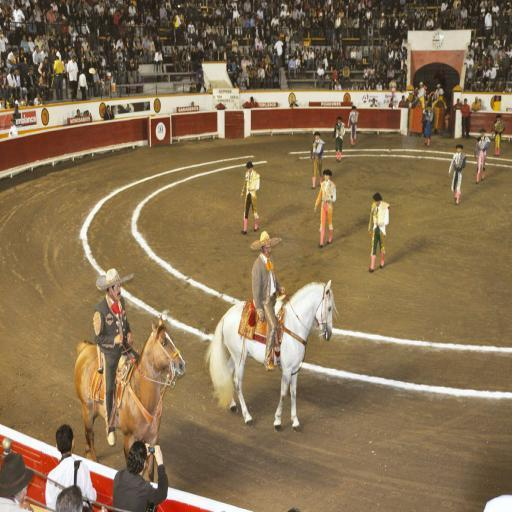horse: (201, 276, 338, 432), (72, 312, 187, 482)
